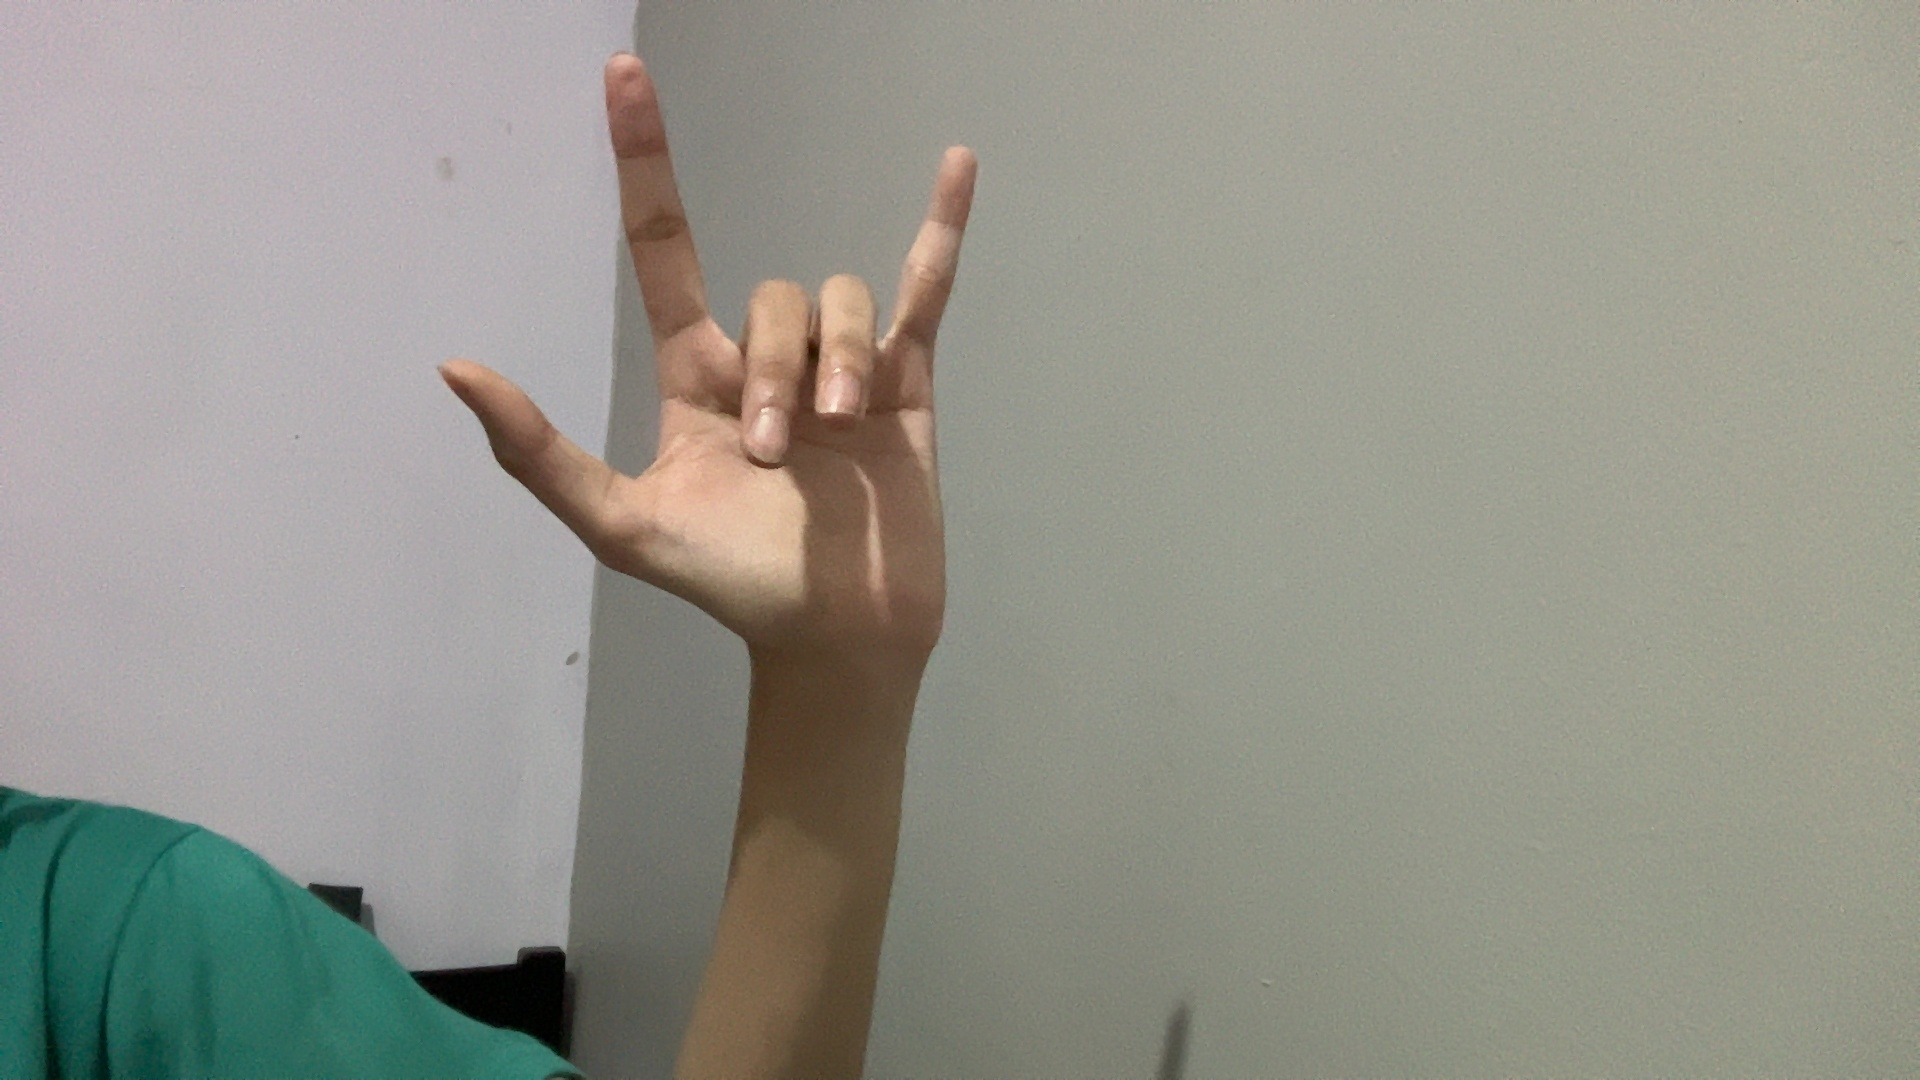I Love You: (348, 36, 1263, 742)
